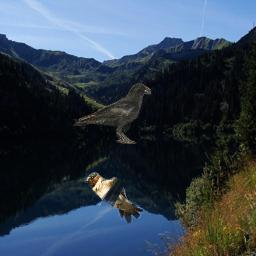Crow: (73, 83, 151, 144)
Swallow: (85, 172, 144, 224)
